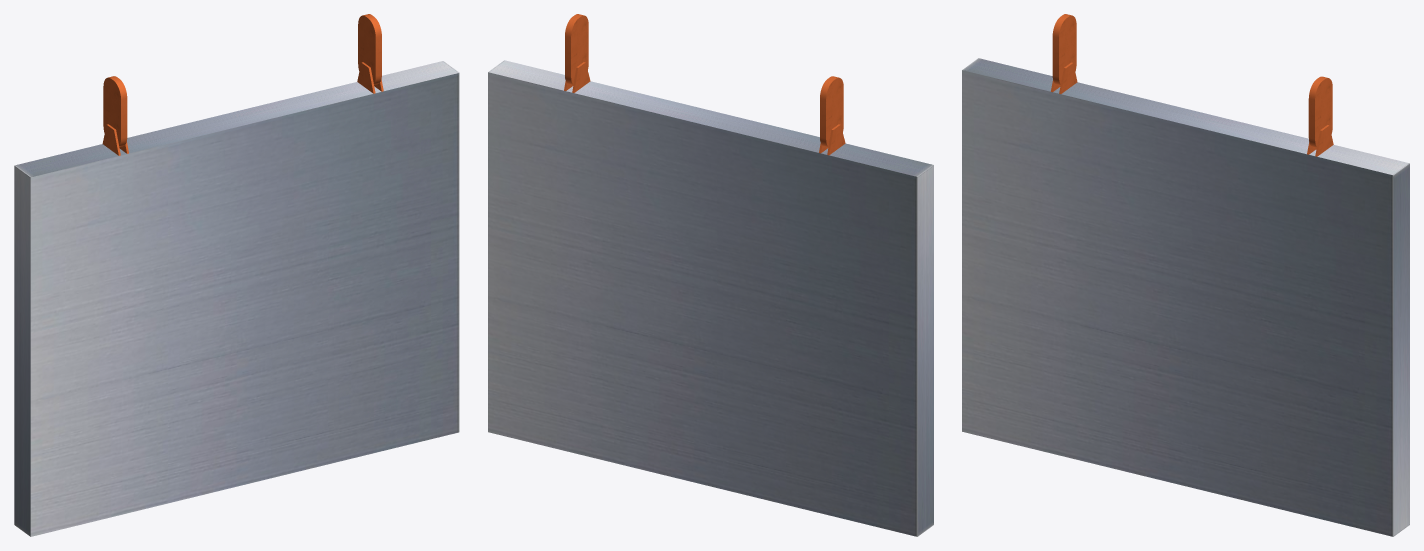
The model's file is zhamen.obj.
3 views of the same model, side by side, from view 1: azimuth 30°, elevation 25°; view 2: azimuth 150°, elevation 25°; view 3: azimuth 330°, elevation 25° (orthographic).
Visible parts, largest first — view 1: Box012, Rectangle051, Rectangle052; view 2: Box012, Rectangle051, Rectangle052; view 3: Box012, Rectangle051, Rectangle052.
Part boxes in pixels (left/top/right/bottom): Box012: left=14, top=61, right=459, bottom=536; Rectangle051: left=103, top=14, right=381, bottom=146; Rectangle052: left=102, top=62, right=383, bottom=155; Box012: left=488, top=60, right=933, bottom=536; Rectangle051: left=565, top=14, right=843, bottom=147; Rectangle052: left=564, top=62, right=845, bottom=155; Box012: left=962, top=58, right=1409, bottom=536; Rectangle051: left=1052, top=14, right=1332, bottom=147; Rectangle052: left=1051, top=62, right=1333, bottom=156.
Size of the model in its own units: 2.12 by 2.03 by 0.1512.
Materials: 2 (2 with a texture image).
